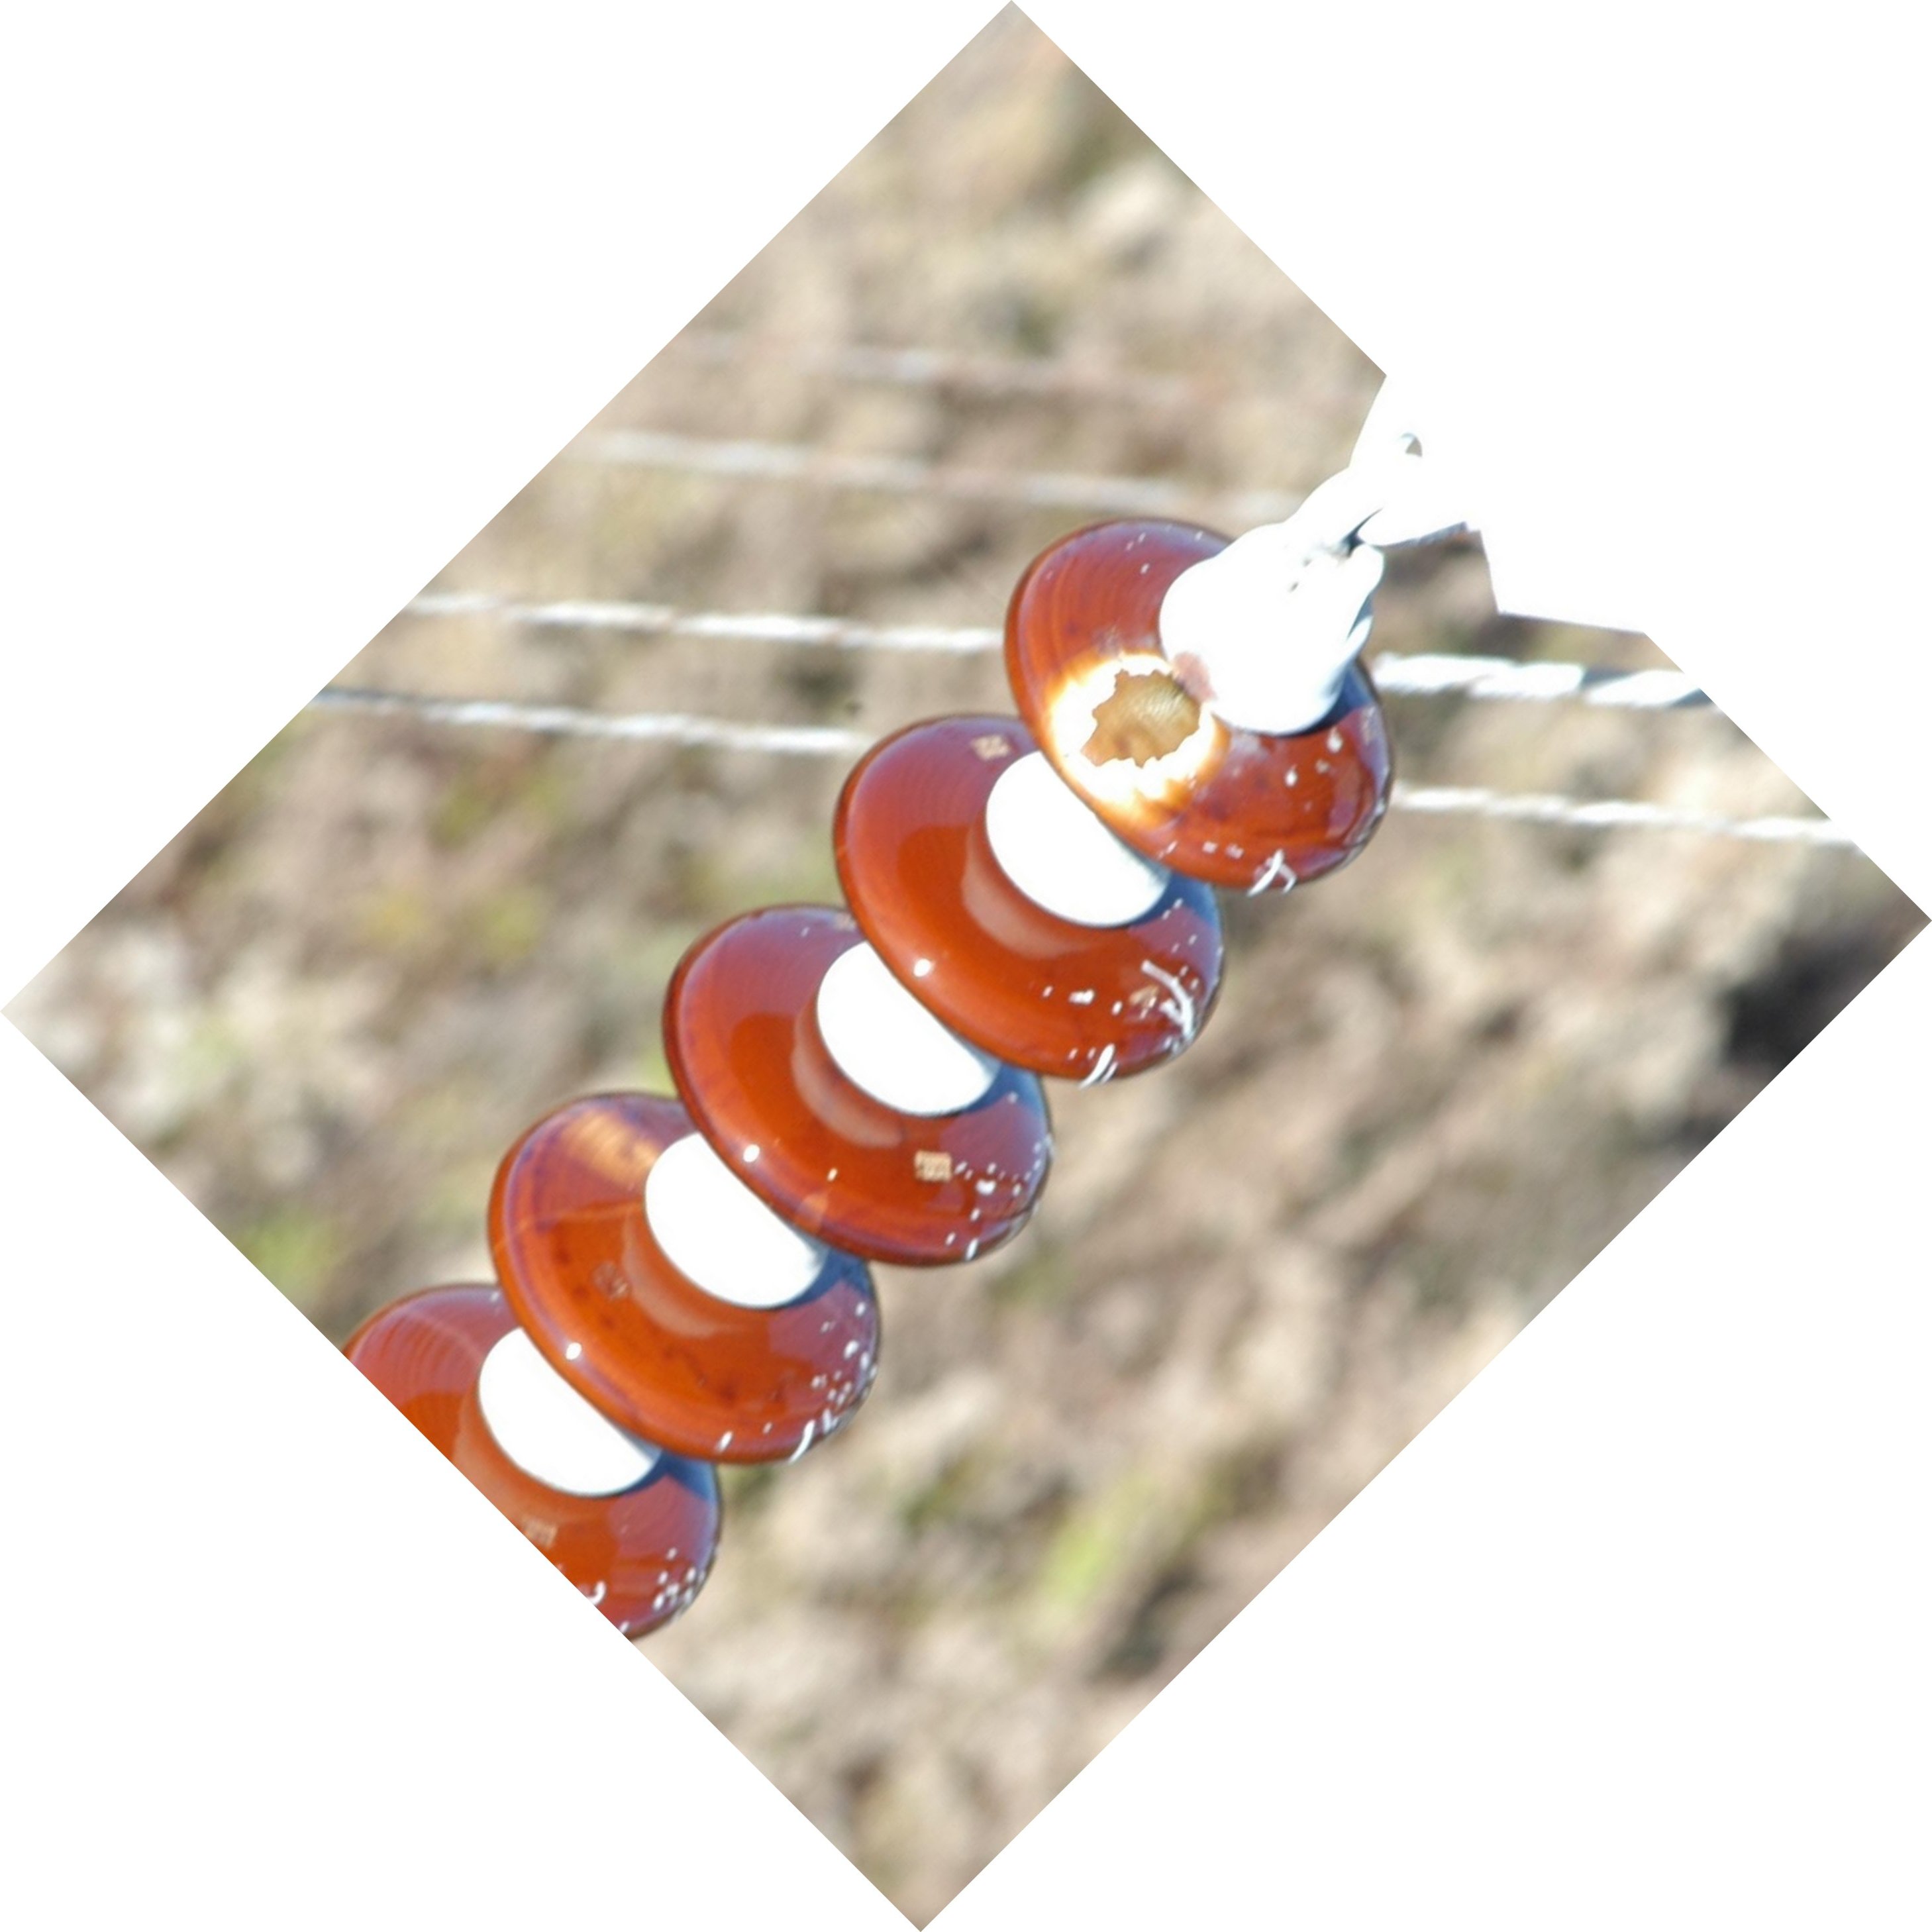Insulator flashover: (1000, 501, 1431, 901)
